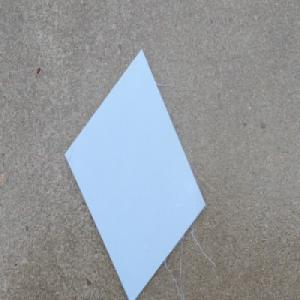PaintChip: (63, 48, 207, 300)
